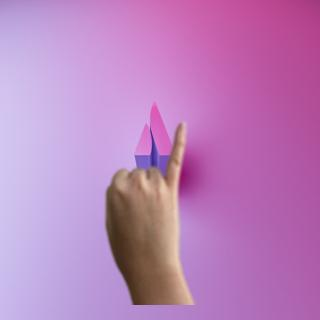Fine: (101, 119, 195, 298)
